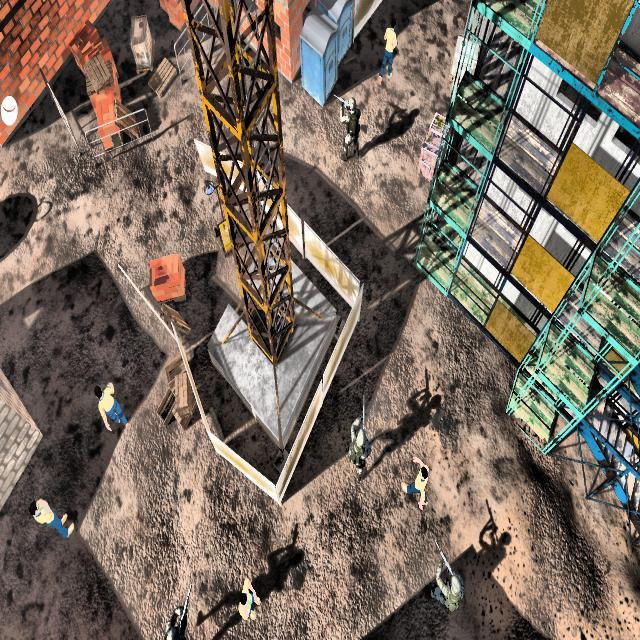bad: (424, 532, 465, 628), (333, 83, 365, 161), (346, 404, 374, 485), (155, 592, 193, 640)
good: (23, 488, 79, 547), (90, 380, 132, 450), (229, 560, 263, 633), (372, 14, 400, 94), (401, 446, 430, 516)
